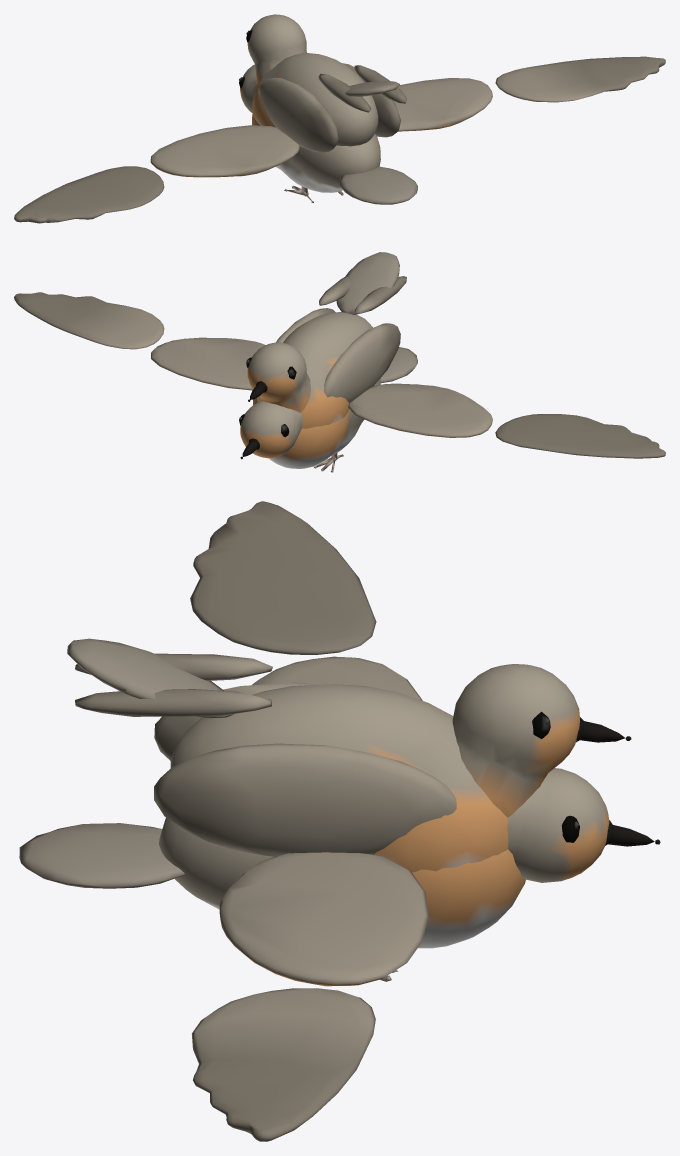
File: songbird_parts.glb
3 views of the same model, one above another, from view 1: azimuth 30°, elevation 25°; view 2: azimuth 150°, elevation 25°; view 3: azimuth 270°, elevation 25° (orthographic). The views are drawn at different scales.
Visible parts, largest first — view 1: WING_L, WINGTIP_R__WING_R, WINGTIP_L__WING_L, BODY, BODY1, WING_R, BODY.001, HEAD, TAIL.001, BODY3, TAIL, HEAD.001; view 2: WING_L, WINGTIP_L__WING_L, WINGTIP_R__WING_R, BODY, BODY1, WING_R, HEAD, BODY.001, HEAD.001, TAIL, BODY3, TAIL.001; view 3: BODY3, WING_R, BODY, WINGTIP_R__WING_R, WINGTIP_L__WING_L, HEAD, BODY.001, TAIL.001, HEAD.001, TAIL, BODY1, WING_L.
Boxes of the visible parts, x1,y1,x2,y2 form: WING_L: (150, 125, 299, 177); WINGTIP_R__WING_R: (495, 56, 665, 102); WINGTIP_L__WING_L: (14, 166, 164, 223); BODY: (252, 53, 378, 146); BODY1: (258, 74, 371, 152); WING_R: (393, 78, 492, 131); BODY.001: (252, 111, 380, 192); HEAD: (247, 14, 306, 84); TAIL.001: (339, 166, 417, 204); BODY3: (342, 63, 406, 137); TAIL: (345, 81, 399, 96); HEAD.001: (240, 64, 256, 112); WING_L: (348, 383, 492, 437); WINGTIP_L__WING_L: (495, 414, 665, 458); WINGTIP_R__WING_R: (14, 292, 164, 349); BODY: (253, 312, 372, 428); BODY1: (324, 276, 406, 402); WING_R: (151, 337, 265, 390); HEAD: (247, 342, 310, 412); BODY.001: (268, 378, 380, 468); HEAD.001: (240, 401, 302, 458); TAIL: (336, 252, 399, 314); BODY3: (276, 277, 350, 342); TAIL.001: (380, 347, 417, 383); BODY3: (75, 689, 456, 856); WING_R: (219, 852, 428, 986); BODY: (170, 684, 508, 872); WINGTIP_R__WING_R: (192, 988, 375, 1141); WINGTIP_L__WING_L: (190, 501, 376, 654); HEAD: (452, 664, 579, 817); BODY.001: (159, 818, 525, 948); TAIL.001: (19, 823, 184, 888); HEAD.001: (507, 768, 609, 882); TAIL: (67, 638, 234, 718); BODY1: (75, 653, 316, 760); WING_L: (252, 656, 422, 700).
Bounding box in the file's own units: 0.4438 × 0.1023 × 0.1894.
